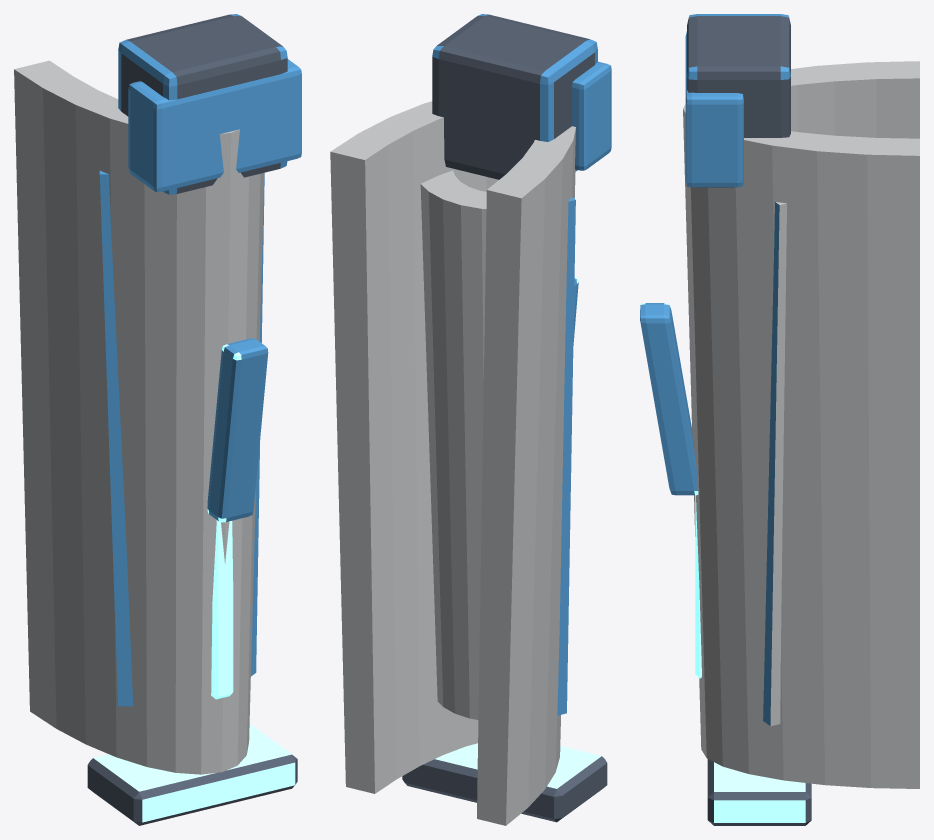
Rendered from left_shin__bold.glb.
The picture shows the model from 3 angles, left to right: view 1: azimuth 30°, elevation 25°; view 2: azimuth 150°, elevation 25°; view 3: azimuth 270°, elevation 25°; orthographic projection. The views are drawn at different scales.
Visible parts, largest first — view 1: armor_left_shin__bold_v001; view 2: armor_left_shin__bold_v001; view 3: armor_left_shin__bold_v001.
Boxes of the visible parts, bbox=[...] form: armor_left_shin__bold_v001: bbox=[14, 14, 301, 825]; armor_left_shin__bold_v001: bbox=[330, 14, 611, 825]; armor_left_shin__bold_v001: bbox=[640, 14, 919, 825].
Size of the model in its own units: 0.1078 by 0.3967 by 0.1345.
